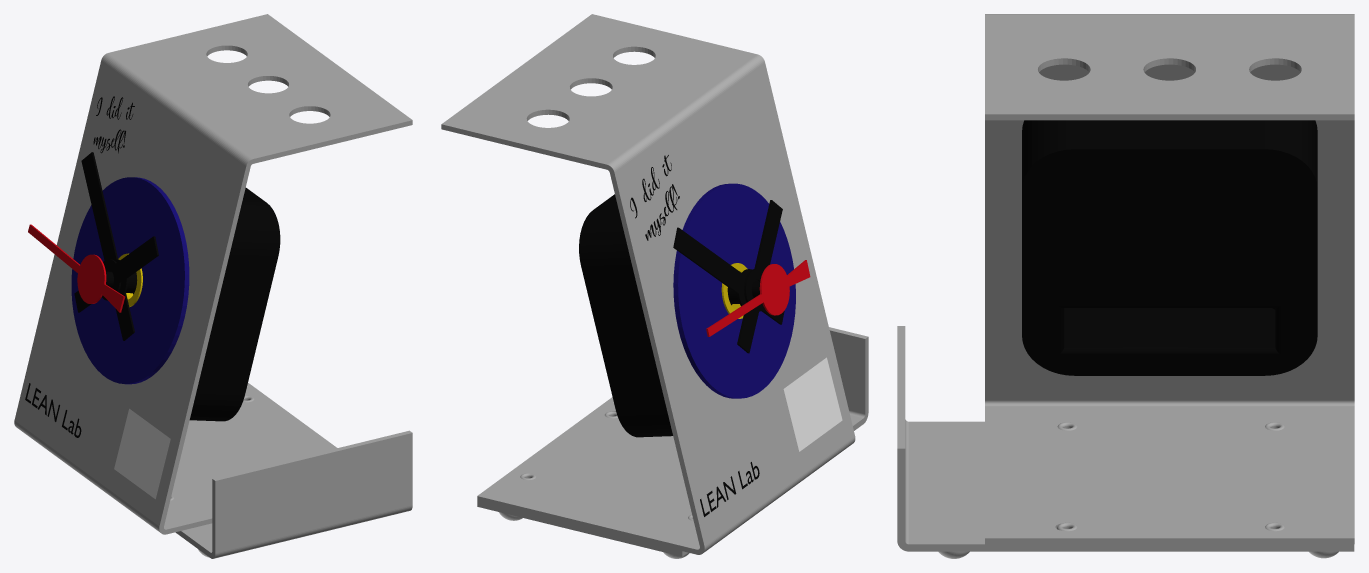
Rendered from uhr-blend.fbx.
3 views of the same model, side by side, from view 1: azimuth 30°, elevation 25°; view 2: azimuth 150°, elevation 25°; view 3: azimuth 270°, elevation 25° (orthographic). The views are drawn at different scales.
Visible parts, largest first — view 1: Leanwatch-Zusammengebaut - Teil A-1, Leanwatch-Zusammengebaut - Teil B-2, Leanwatch-Zusammengebaut - Scheibe-1, Leanwatch-Zusammengebaut - uhrwerk-2, Plane, Leanwatch-Zusammengebaut - minutenzeiger-2, Leanwatch-Zusammengebaut - sekundenzeiger-1, Leanwatch-Zusammengebaut - stundenzeiger-3, Text, Text.001; view 2: Leanwatch-Zusammengebaut - Teil A-1, Leanwatch-Zusammengebaut - Scheibe-1, Leanwatch-Zusammengebaut - uhrwerk-2, Leanwatch-Zusammengebaut - Teil B-2, Plane, Leanwatch-Zusammengebaut - sekundenzeiger-1, Leanwatch-Zusammengebaut - stundenzeiger-3, Leanwatch-Zusammengebaut - minutenzeiger-2, Text, Text.001; view 3: Leanwatch-Zusammengebaut - Teil A-1, Leanwatch-Zusammengebaut - uhrwerk-2, Leanwatch-Zusammengebaut - Teil B-2.
Part boxes in pixels (x1=…): Leanwatch-Zusammengebaut - Teil A-1: x1=14, y1=14, x2=412, y2=534; Leanwatch-Zusammengebaut - Teil B-2: x1=175, y1=430, x2=412, y2=558; Leanwatch-Zusammengebaut - Scheibe-1: x1=71, y1=177, x2=189, y2=384; Leanwatch-Zusammengebaut - uhrwerk-2: x1=106, y1=187, x2=280, y2=421; Plane: x1=114, y1=408, x2=170, y2=499; Leanwatch-Zusammengebaut - minutenzeiger-2: x1=81, y1=152, x2=134, y2=340; Leanwatch-Zusammengebaut - sekundenzeiger-1: x1=28, y1=224, x2=125, y2=312; Leanwatch-Zusammengebaut - stundenzeiger-3: x1=74, y1=236, x2=158, y2=312; Text: x1=93, y1=96, x2=134, y2=153; Text.001: x1=25, y1=383, x2=81, y2=437; Leanwatch-Zusammengebaut - Teil A-1: x1=441, y1=14, x2=855, y2=554; Leanwatch-Zusammengebaut - Scheibe-1: x1=673, y1=183, x2=795, y2=398; Leanwatch-Zusammengebaut - uhrwerk-2: x1=579, y1=194, x2=760, y2=437; Leanwatch-Zusammengebaut - Teil B-2: x1=477, y1=327, x2=868, y2=556; Plane: x1=783, y1=357, x2=842, y2=451; Leanwatch-Zusammengebaut - sekundenzeiger-1: x1=706, y1=260, x2=810, y2=336; Leanwatch-Zusammengebaut - stundenzeiger-3: x1=737, y1=200, x2=782, y2=353; Leanwatch-Zusammengebaut - minutenzeiger-2: x1=673, y1=227, x2=784, y2=324; Text: x1=630, y1=155, x2=679, y2=240; Text.001: x1=700, y1=462, x2=759, y2=516; Leanwatch-Zusammengebaut - Teil A-1: x1=985, y1=14, x2=1354, y2=544; Leanwatch-Zusammengebaut - uhrwerk-2: x1=1022, y1=120, x2=1317, y2=375; Leanwatch-Zusammengebaut - Teil B-2: x1=897, y1=326, x2=1354, y2=551.
Size of the model in its own units: 773 by 1087 by 942.
